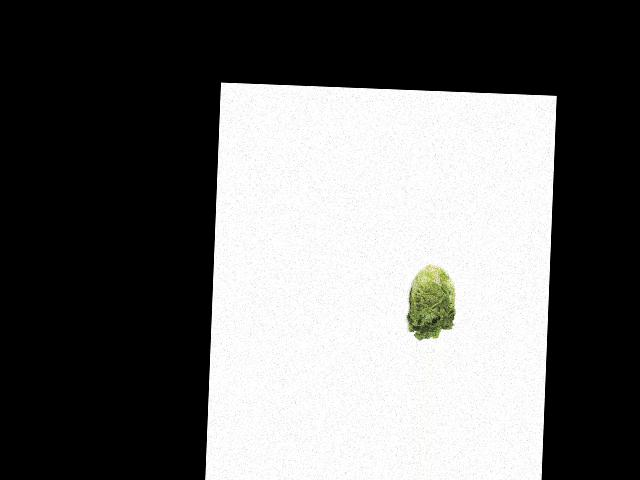lettuce: (403, 263, 461, 339)
